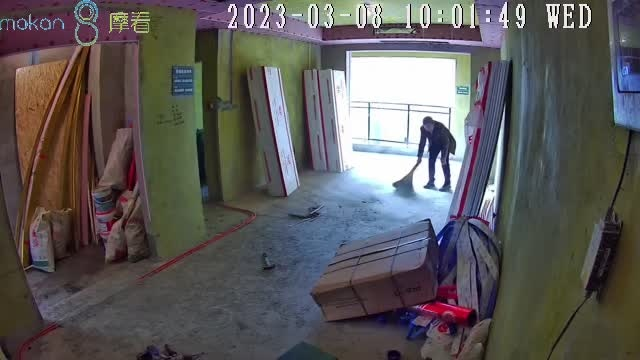people: (416, 116, 455, 192)
window: (349, 57, 456, 146)
